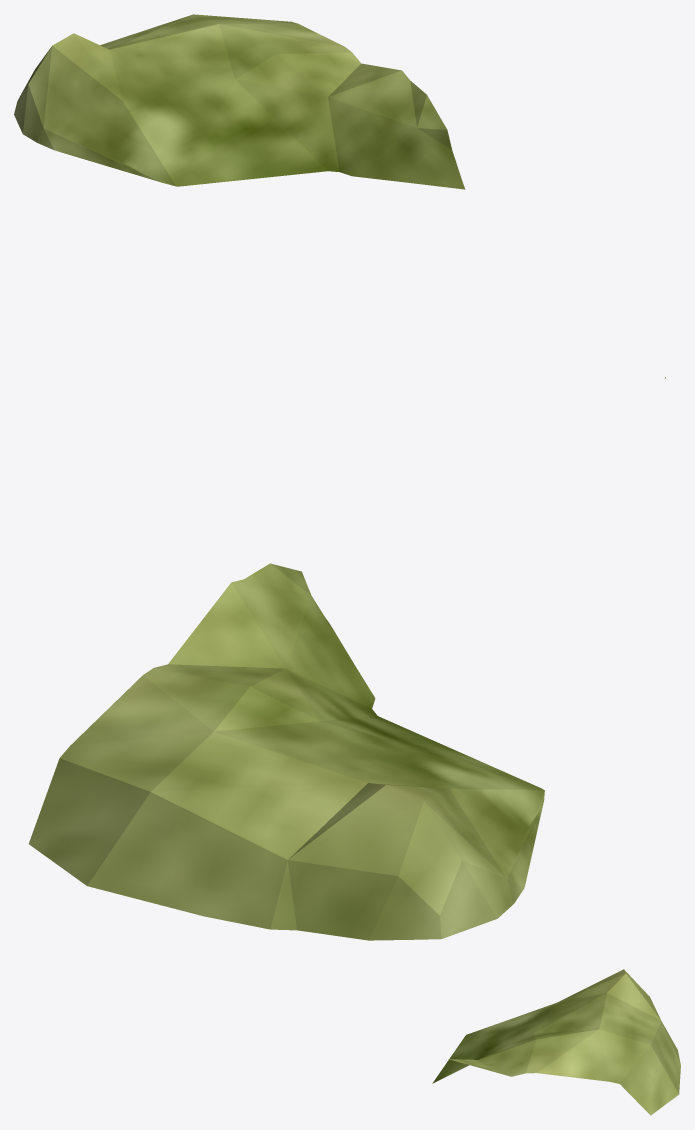
3 renders of one model, top to bottom at view 1: azimuth 30°, elevation 25°; view 2: azimuth 150°, elevation 25°; view 3: azimuth 270°, elevation 25°, orthographic. The views are drawn at different scales.
Bounding box in the file's own units: 0.8306 × 0.2264 × 2.24.
1 material, 1 textured.
